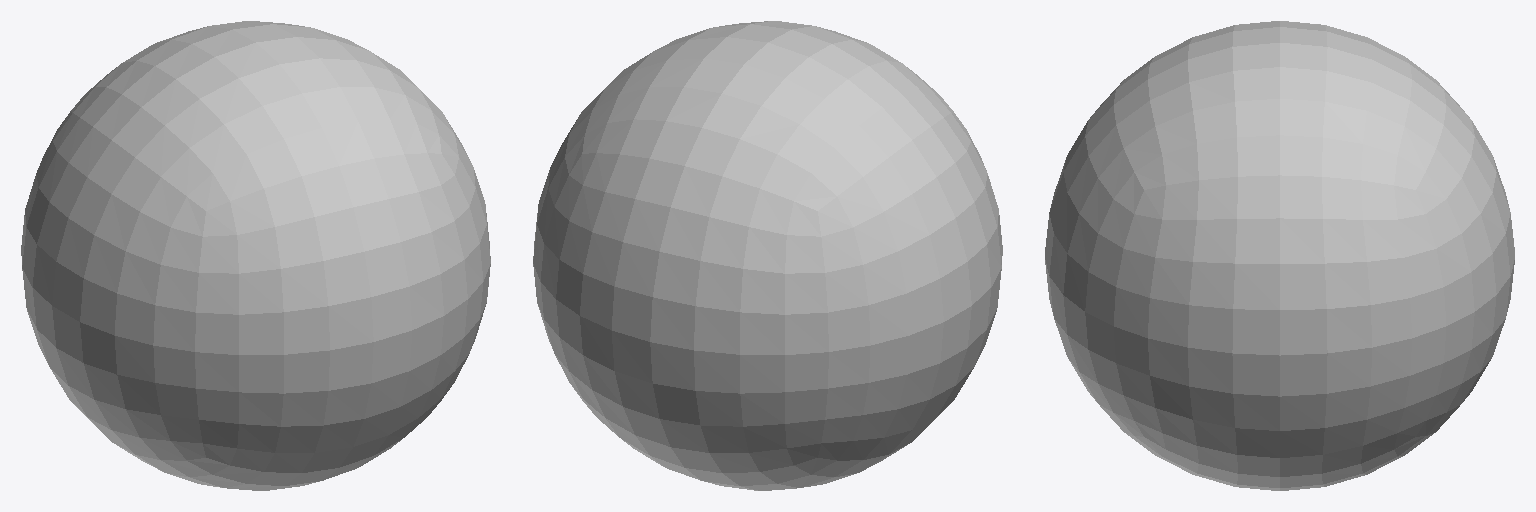
The model's file is ball.obj.
The picture shows the model from 3 angles: view 1: azimuth 30°, elevation 25°; view 2: azimuth 150°, elevation 25°; view 3: azimuth 270°, elevation 25°; orthographic projection.
Visible parts, largest first — view 1: Ball_low; view 2: Ball_low; view 3: Ball_low.
Part boxes in pixels (left/top/right/bottom): Ball_low: left=21, top=21, right=490, bottom=490; Ball_low: left=533, top=21, right=1002, bottom=490; Ball_low: left=1045, top=21, right=1514, bottom=490.
Bounding box in the file's own units: 1.53 × 1.53 × 1.53.